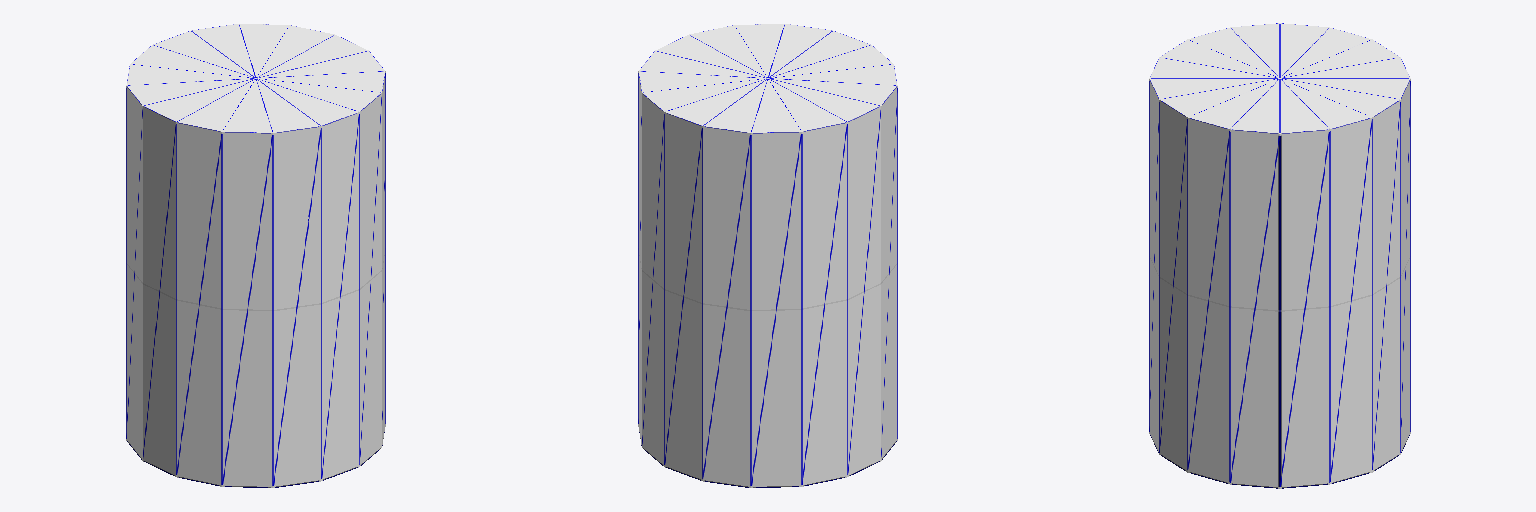
3 renders of one model, left to right at view 1: azimuth 30°, elevation 25°; view 2: azimuth 150°, elevation 25°; view 3: azimuth 270°, elevation 25°, orthographic.
Parts seen in each view (by area): view 1: TestOilBarrel; view 2: TestOilBarrel; view 3: TestOilBarrel.
Part boxes in pixels (x1,y1,x2,y2): TestOilBarrel: (126,24,385,487); TestOilBarrel: (638,24,897,487); TestOilBarrel: (1149,23,1410,488).
Bounding box in the file's own units: 2 × 3 × 2.
1 materials, 1 textured.